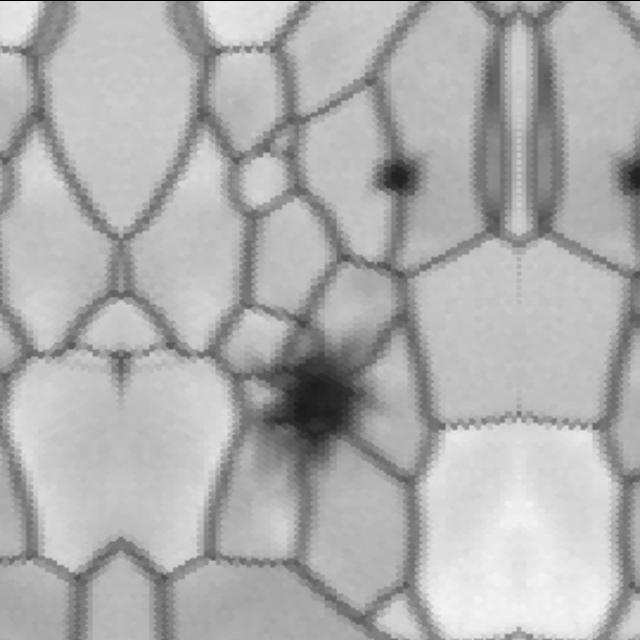good_void: (225, 330, 401, 510), (360, 141, 436, 209), (603, 143, 640, 205)
